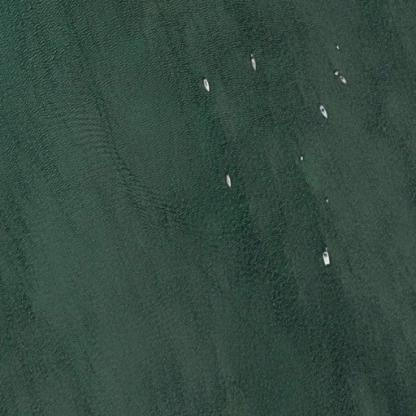ship: (315, 99, 330, 120), (220, 168, 232, 189), (200, 76, 213, 94), (318, 244, 330, 262), (247, 10, 257, 30), (337, 31, 349, 44), (331, 28, 339, 31), (331, 0, 335, 2), (298, 156, 302, 158), (326, 199, 327, 200)
